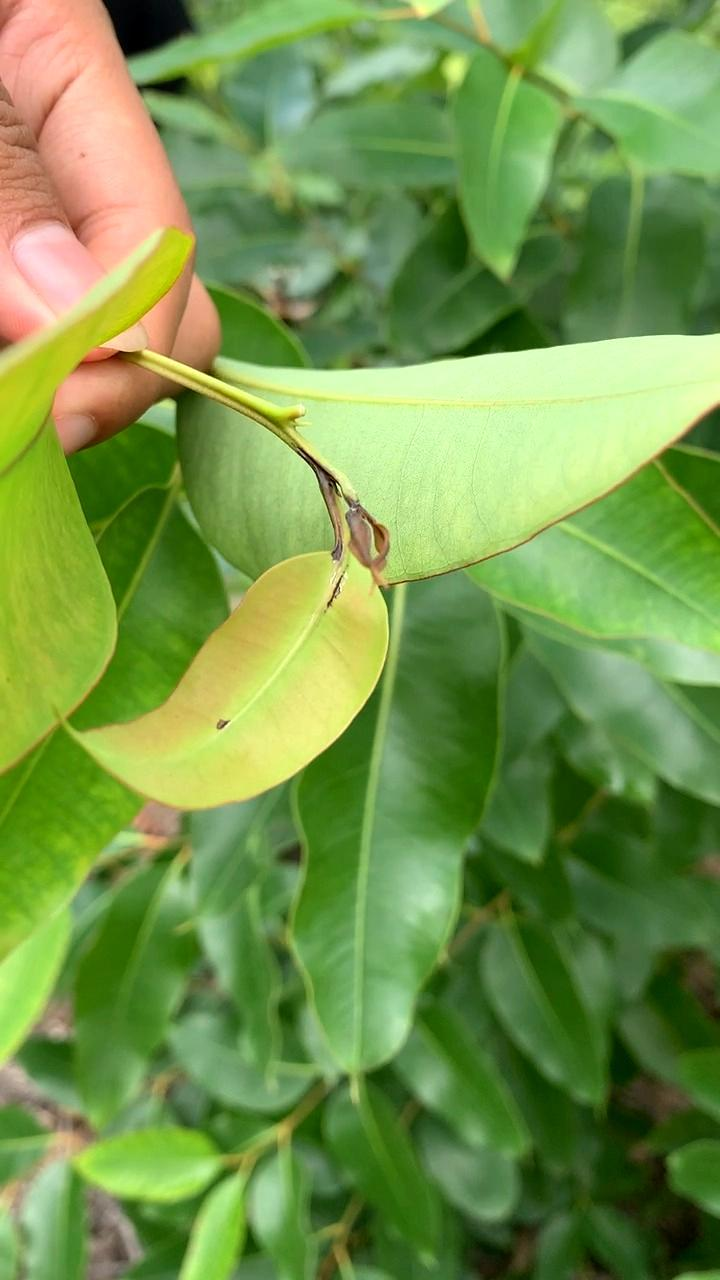Helopeltis-Withered Sprout: (318, 468, 391, 610)
